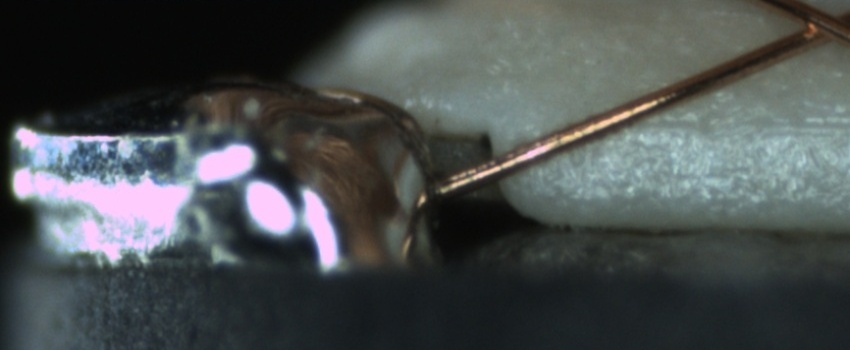CL: (778, 3, 849, 52)
DL: (621, 89, 847, 156)
